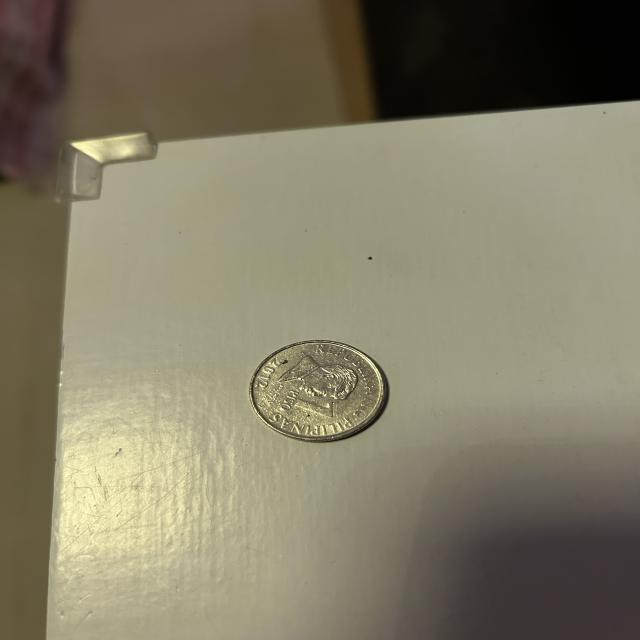1_Old_Front: (281, 385, 338, 428)
